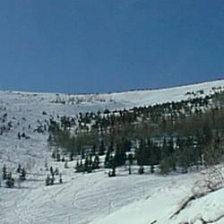neutral: (1, 4, 224, 222)
